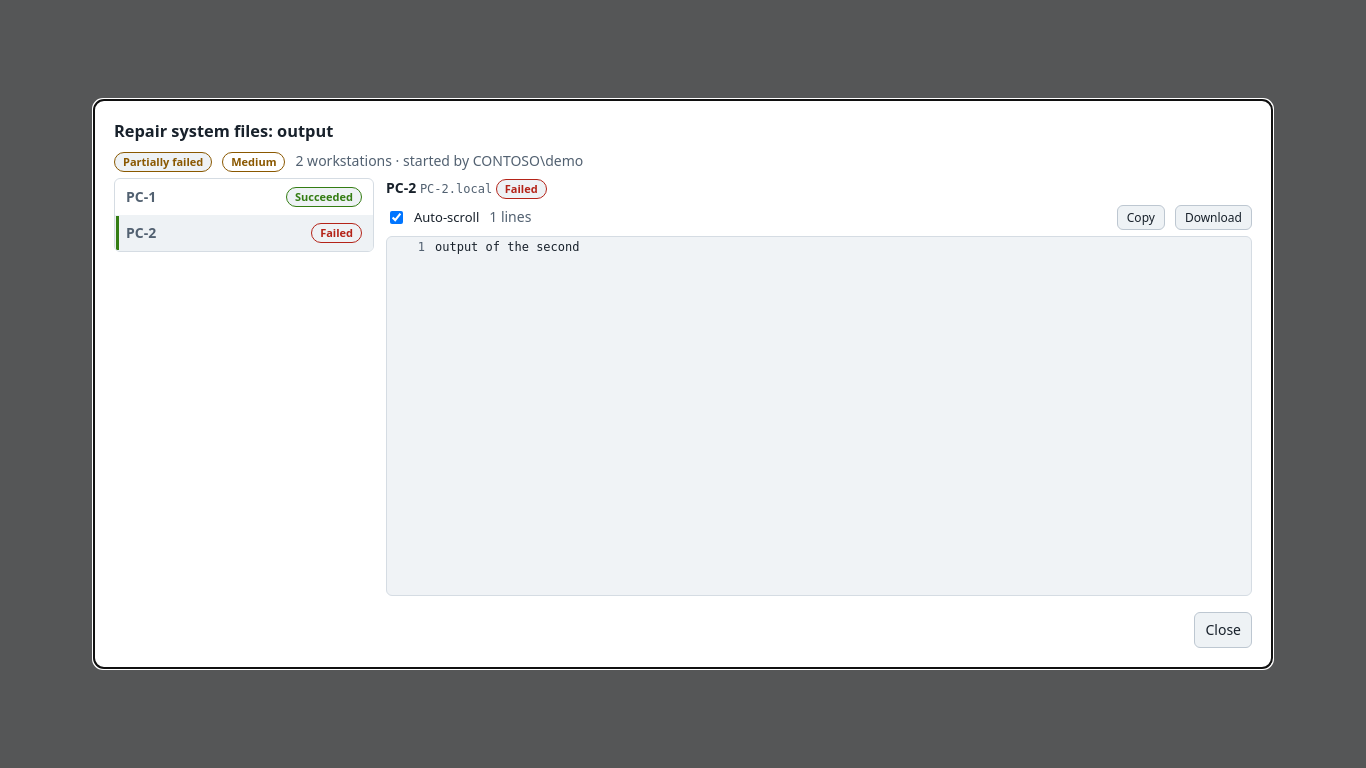
Test case: Job output window (N9) › lists every workstation of a bulk job, starts on the failed one, and switches output when another is picked
The image size is (1366, 768).
Expected: the text "output of the second" is shown, [435,240,580,254]
Click the button "PC-1 Succeeded". click: (244, 197)
box: [115,179,373,215]
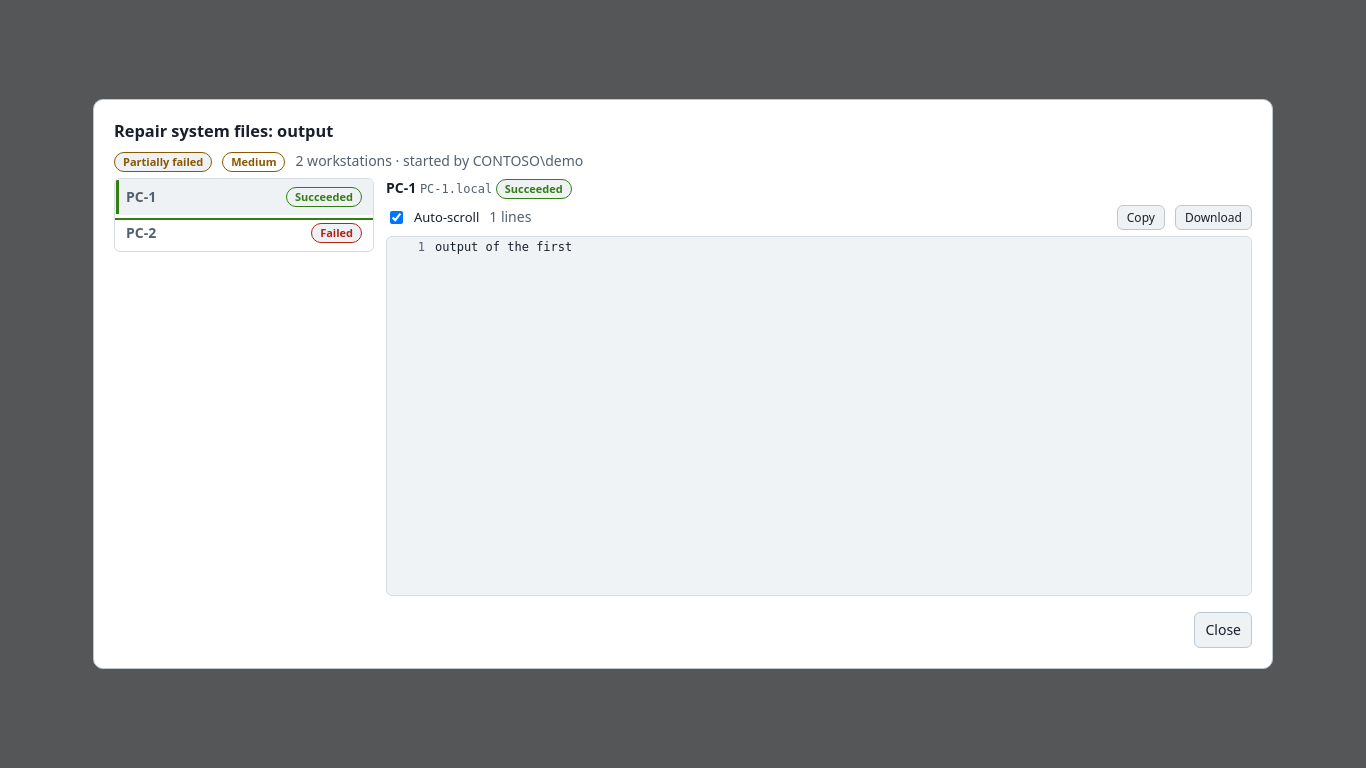
Expected: the text "output of the first" is shown, [435,240,572,254]
Expected: the text "output of the second" is gone
